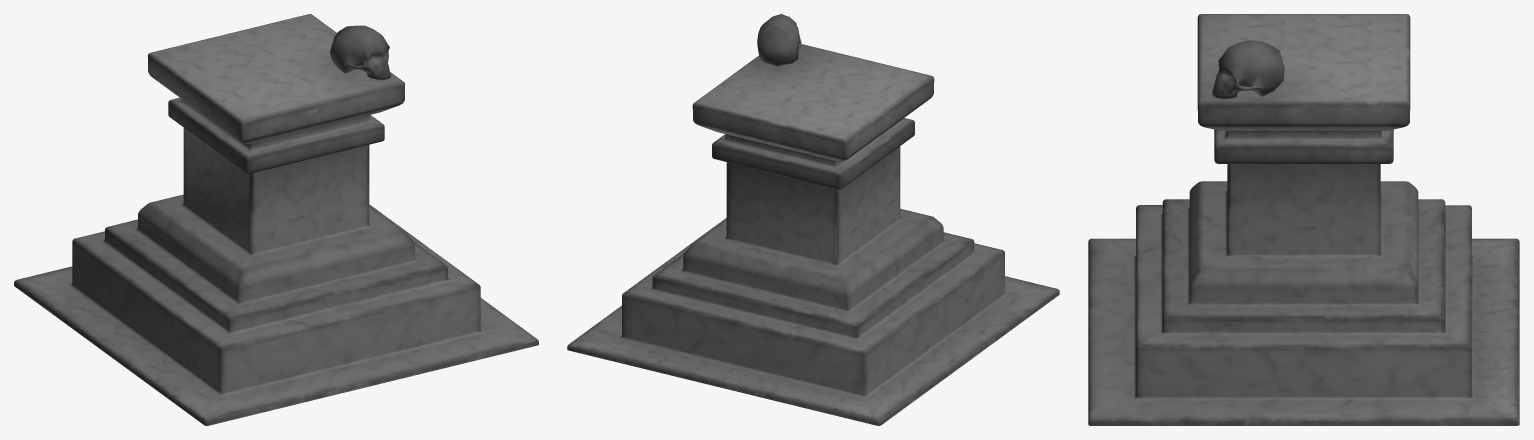
Rendered from great_statue_base.fbx.
3 renders of one model, left to right at view 1: azimuth 30°, elevation 25°; view 2: azimuth 150°, elevation 25°; view 3: azimuth 270°, elevation 25°, orthographic. The views are drawn at different scales.
Visible parts, largest first — view 1: Cube.002, Cube.003; view 2: Cube.002, Cube.003; view 3: Cube.002, Cube.003.
Part boxes in pixels (x1=…): Cube.002: x1=14, y1=14, x2=538, y2=425; Cube.003: x1=330, y1=25, x2=390, y2=79; Cube.002: x1=567, y1=44, x2=1059, y2=425; Cube.003: x1=757, y1=14, x2=801, y2=66; Cube.002: x1=1088, y1=14, x2=1519, y2=425; Cube.003: x1=1212, y1=40, x2=1284, y2=98.
Size of the model in its own units: 8528 by 7093 by 8528.
